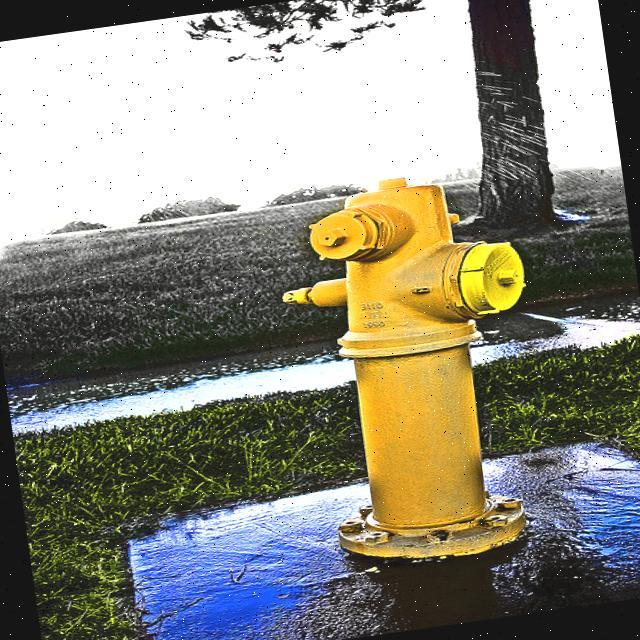fire_hydrant: (260, 160, 560, 576)
